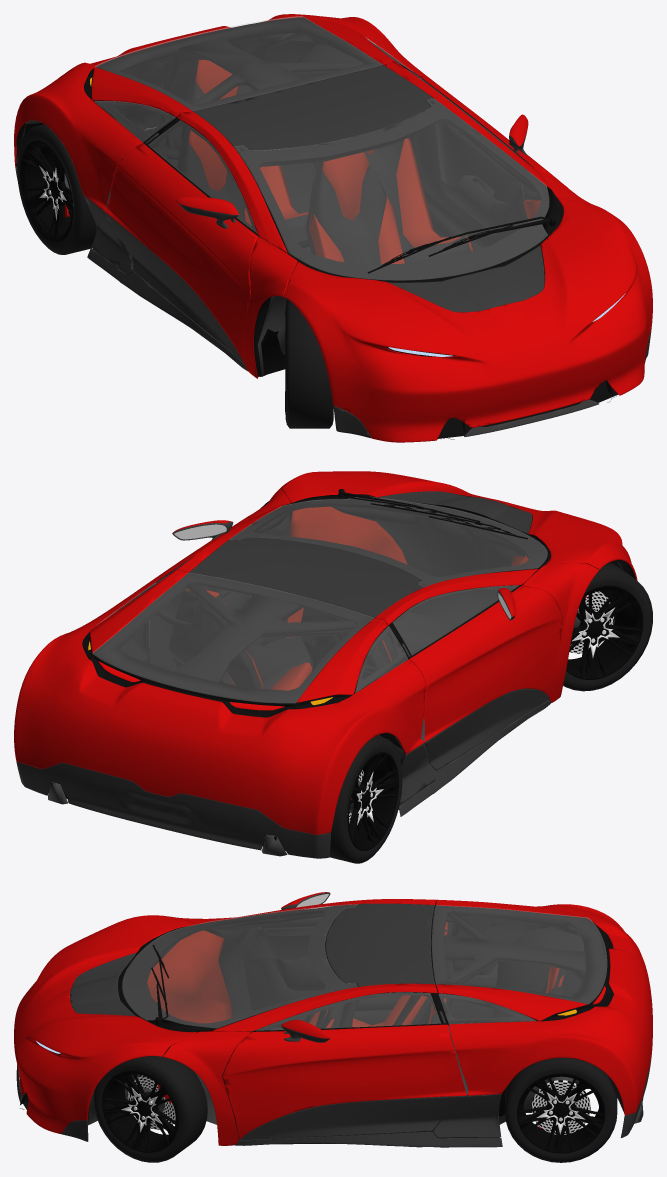
The model's file is car.glb.
The picture shows the model from 3 angles, top to bottom: view 1: azimuth 30°, elevation 25°; view 2: azimuth 150°, elevation 25°; view 3: azimuth 270°, elevation 25°; orthographic projection. The views are drawn at different scales.
Visible parts, largest first — view 1: BodyHood, BodyWindshield, BodyRearwindow, BodyDoorRColor1, BodyRearPanelsColor1, BodyRoofPanel, BodyWindshieldGasket, InteriorSeatsColor1, InteriorSeatsColor2, BodyPillars, InteriorDoorL01, InteriorPillar (+20 smaller); view 2: BodyRearPanelsColor1, BodyRearwindow, BodyWindshield, BodyPanelsColor2, BodyDoorRColor1, BodyRoofPanel, InteriorDashMid, BodyHood, InteriorRearHatch, BodyPillars, InteriorPillar, BodyWindshieldGasket (+21 smaller); view 3: BodyRearPanelsColor1, BodyWindshield, BodyDoorLColor1, BodyHood, BodyRearwindow, BodyRoofPanel, BodyPillars, BodyWindshieldGasket, BodyDoorLColor2, BodyPanelsColor2, InteriorDashSides, WheelFrontL (+23 smaller).
Boxes of the visible parts, <box> form: BodyHood: <box>283,198,652,442</box>; BodyWindshield: <box>234,98,549,280</box>; BodyRearwindow: <box>95,16,382,110</box>; BodyDoorRColor1: <box>104,143,257,362</box>; BodyRearPanelsColor1: <box>14,14,428,210</box>; BodyRoofPanel: <box>193,65,432,150</box>; BodyWindshieldGasket: <box>234,99,563,282</box>; InteriorSeatsColor1: <box>188,59,473,264</box>; InteriorSeatsColor2: <box>180,82,470,264</box>; BodyPillars: <box>176,61,598,378</box>; InteriorDoorL01: <box>408,78,526,248</box>; InteriorPillar: <box>158,37,434,169</box>; BodyRearPanelsColor1: <box>14,569,425,834</box>; BodyRearwindow: <box>92,573,373,703</box>; BodyWindshield: <box>229,497,547,587</box>; BodyPanelsColor2: <box>16,700,550,858</box>; BodyDoorRColor1: <box>409,585,562,742</box>; BodyRoofPanel: <box>189,537,422,617</box>; InteriorDashMid: <box>331,502,528,622</box>; BodyHood: <box>279,471,637,580</box>; InteriorRearHatch: <box>93,573,386,707</box>; BodyPillars: <box>175,489,599,702</box>; InteriorPillar: <box>174,574,417,682</box>; BodyWindshieldGasket: <box>230,497,550,587</box>; BodyRearPanelsColor1: <box>436,899,652,1115</box>; BodyWindshield: <box>122,904,357,1028</box>; BodyDoorLColor1: <box>222,1024,467,1139</box>; BodyHood: <box>14,915,196,1133</box>; BodyRearwindow: <box>432,905,606,1003</box>; BodyRoofPanel: <box>326,903,434,986</box>; BodyPillars: <box>163,899,437,1145</box>; BodyWindshieldGasket: <box>118,905,357,1032</box>; BodyDoorLColor2: <box>240,1096,467,1140</box>; BodyPanelsColor2: <box>16,1050,652,1147</box>; InteriorDashSides: <box>147,930,232,1023</box>; WheelFrontL: <box>93,1054,207,1162</box>.
Size of the model in its own units: 2.54 by 1.15 by 4.36.
Materials: 19 (1 with a texture image).
